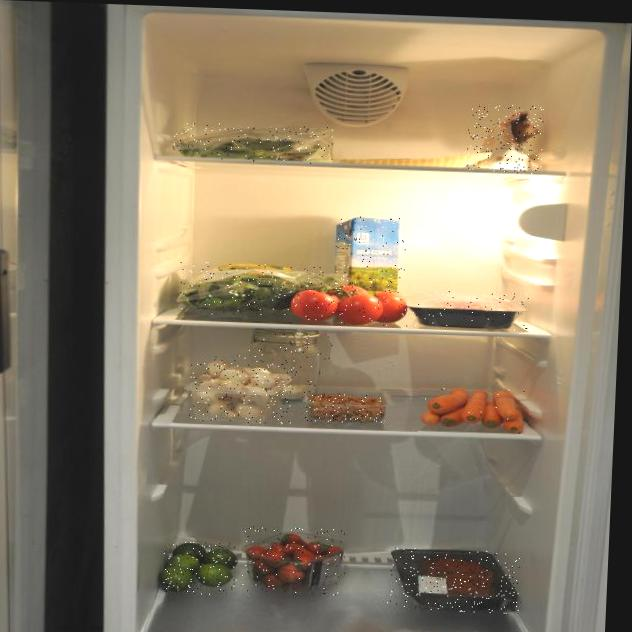beef: (387, 547, 522, 614)
carrot: (418, 386, 530, 438)
flour: (245, 328, 333, 402), (465, 104, 544, 174)
green_beans: (172, 122, 335, 164)
ground_beef: (404, 290, 529, 331)
lime: (160, 541, 239, 596)
milk: (333, 216, 407, 309)
mushrooms: (189, 354, 293, 424)
shrimp: (305, 393, 385, 424)
spinach: (178, 261, 331, 319)
strawberries: (240, 526, 347, 596)
tomato: (286, 281, 410, 327)
